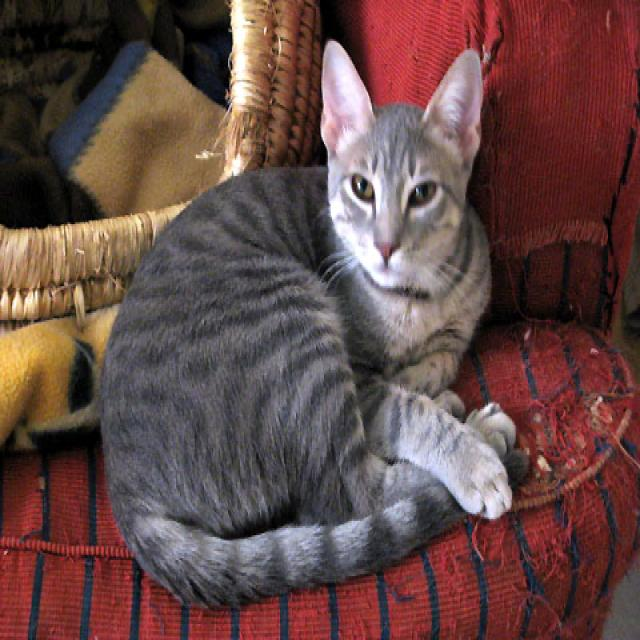cat: (319, 36, 481, 286)
